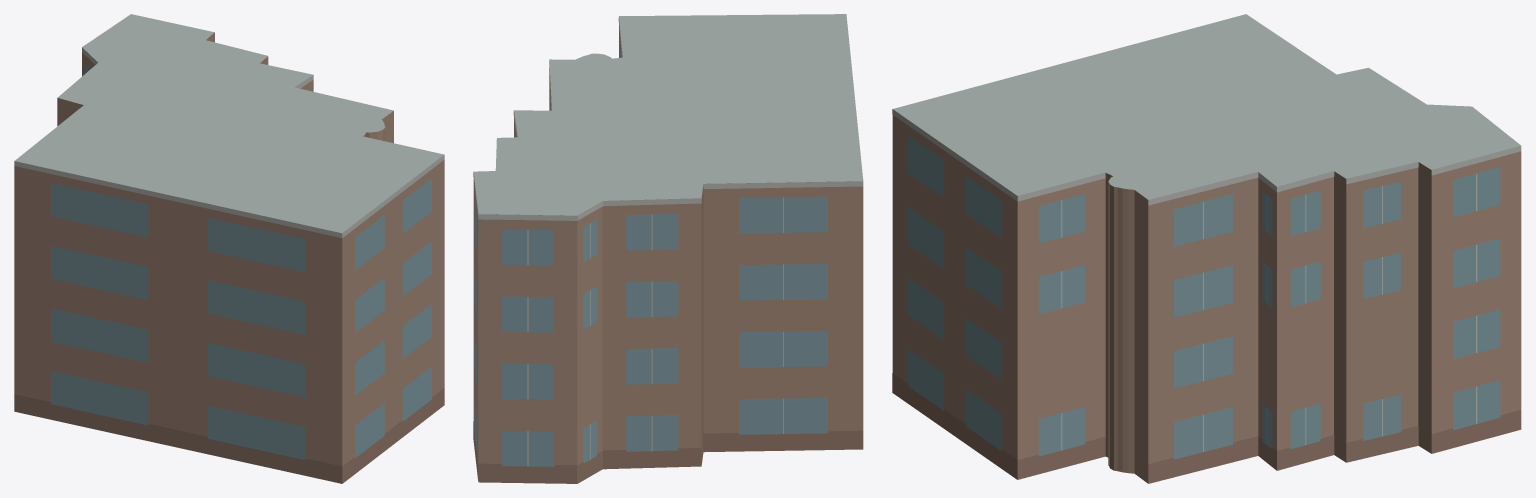
The model's file is survey-upis-32935214.glb.
3 renders of one model, left to right at view 1: azimuth 30°, elevation 25°; view 2: azimuth 150°, elevation 25°; view 3: azimuth 270°, elevation 25°, orthographic. The views are drawn at different scales.
Visible parts, largest first — view 1: survey-upis-32935214.tmp; view 2: survey-upis-32935214.tmp; view 3: survey-upis-32935214.tmp.
Boxes of the visible parts, x1,y1,x2,y2 form: survey-upis-32935214.tmp: [14, 14, 444, 483]; survey-upis-32935214.tmp: [473, 14, 863, 483]; survey-upis-32935214.tmp: [892, 14, 1521, 483].
Size of the model in its own units: 17.44 by 12.4 by 24.9.
